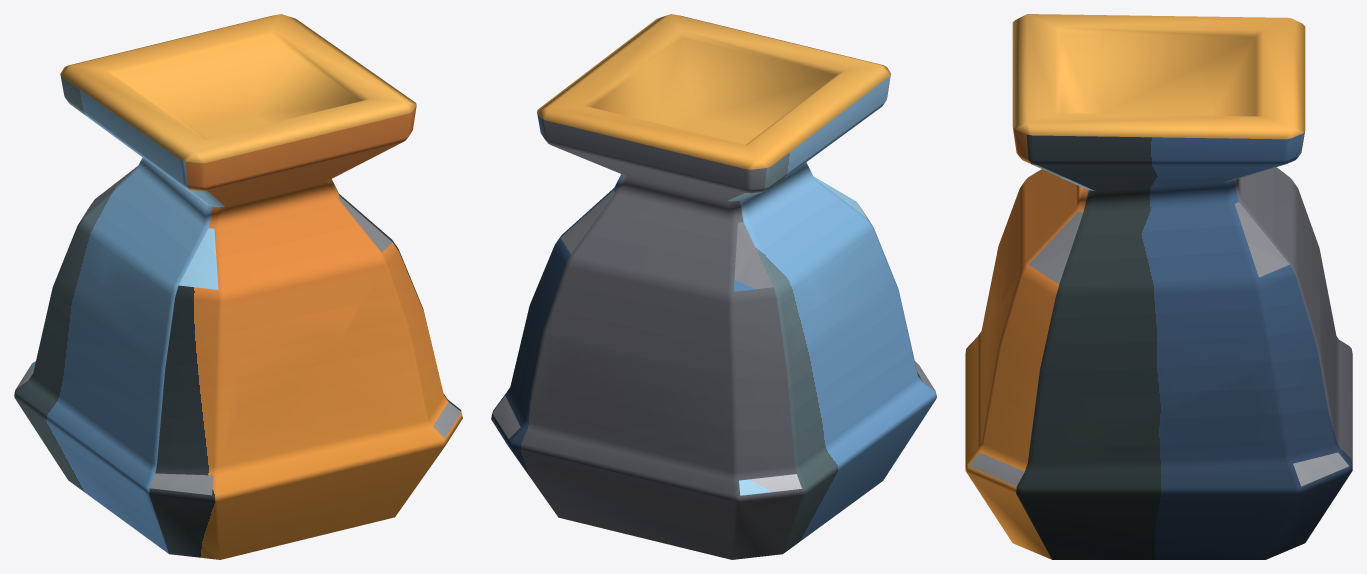
Rendered from CharSkyKid_Prop_AP10Brazier_01.glb.
The picture shows the model from 3 angles, left to right: view 1: azimuth 30°, elevation 25°; view 2: azimuth 150°, elevation 25°; view 3: azimuth 270°, elevation 25°; orthographic projection. The views are drawn at different scales.
Visible parts, largest first — view 1: CharSkyKid_Prop_AP10Brazier_01; view 2: CharSkyKid_Prop_AP10Brazier_01; view 3: CharSkyKid_Prop_AP10Brazier_01.
Boxes of the visible parts, x1,y1,x2,y2 form: CharSkyKid_Prop_AP10Brazier_01: (14,14,462,559); CharSkyKid_Prop_AP10Brazier_01: (491,14,936,559); CharSkyKid_Prop_AP10Brazier_01: (965,14,1352,559).
Bounding box in the file's own units: 0.4069 × 0.498 × 0.4069.
1 material, 1 textured.
